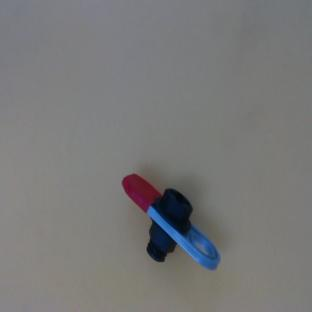part_1_good: (109, 156, 225, 295)
